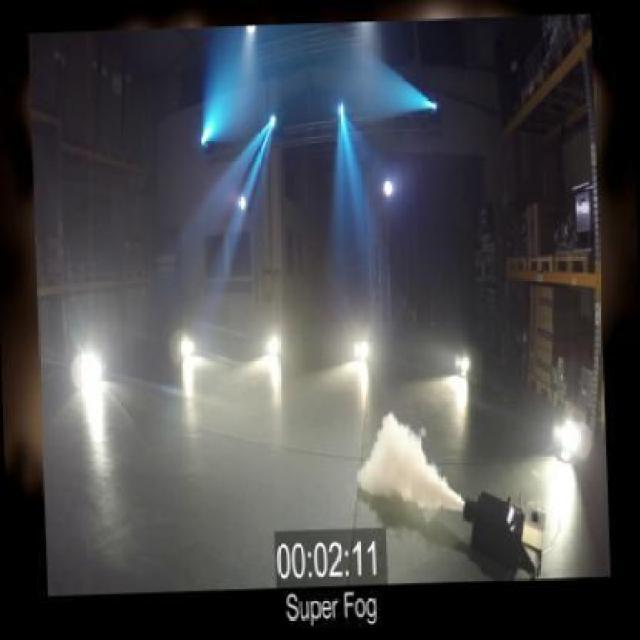fire: (346, 400, 454, 520)
